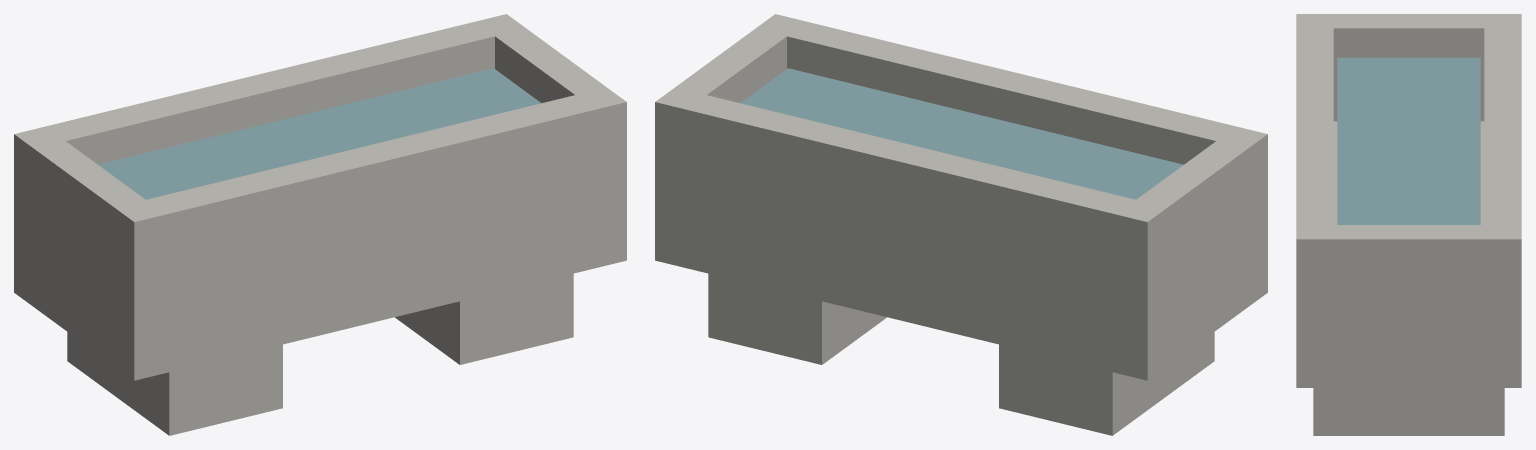
File: korean-hanok-village-and-street-water-trough-878d599c__38075.glb
3 renders of one model, left to right at view 1: azimuth 30°, elevation 25°; view 2: azimuth 150°, elevation 25°; view 3: azimuth 270°, elevation 25°, orthographic. The views are drawn at different scales.
Parts seen in each view (by area): view 1: water-trough; view 2: water-trough; view 3: water-trough.
Boxes of the visible parts, x1,y1,x2,y2 form: water-trough: (14,14,626,435); water-trough: (655,14,1267,435); water-trough: (1296,14,1521,435).
Size of the model in its own units: 1.56 by 0.6999 by 0.6599.
